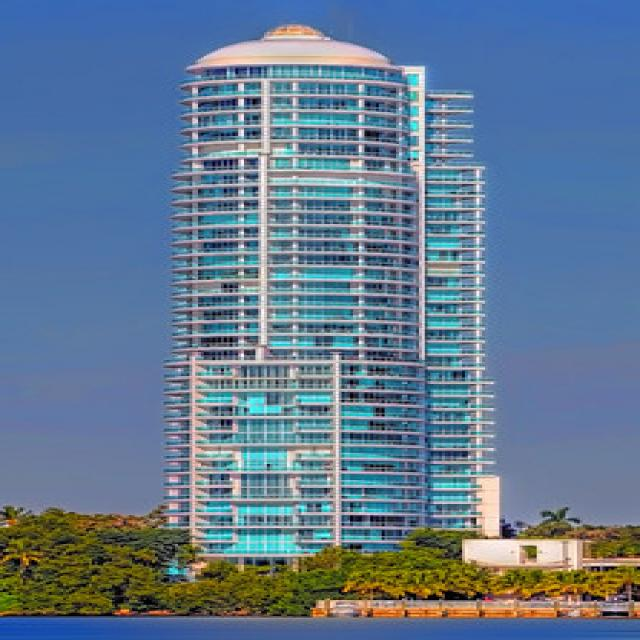Normal_building: (172, 21, 505, 574)
